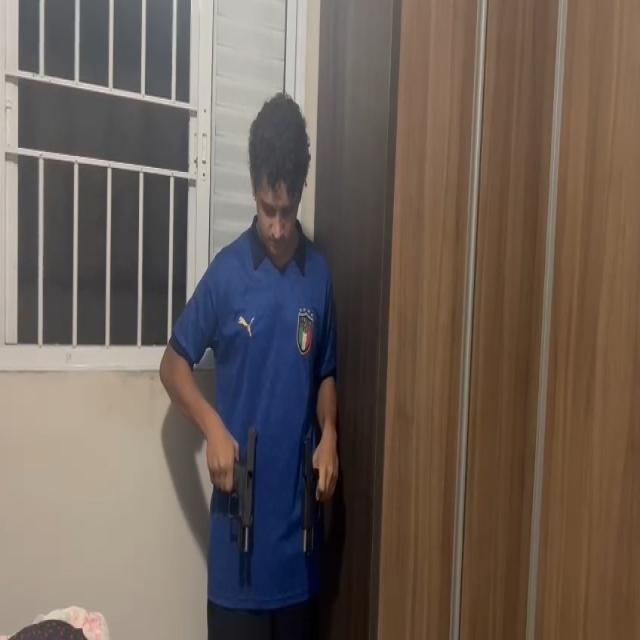gun: (226, 424, 260, 558), (299, 445, 319, 560)
